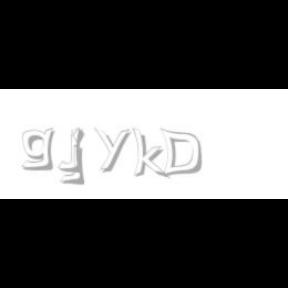D: (160, 128, 202, 178)
J: (58, 128, 82, 172)
g: (22, 128, 58, 171)
j: (70, 128, 98, 186)
k: (132, 128, 170, 180)
y: (94, 128, 134, 172)
